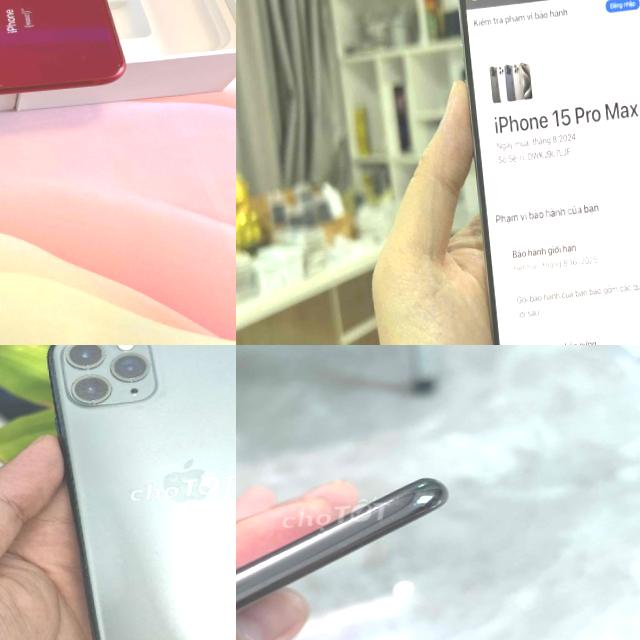gen_11: (43, 345, 236, 640)
gen_15: (445, 0, 640, 345)
gen_7_8: (0, 0, 129, 124)
gen_x_xs: (236, 456, 483, 640)
